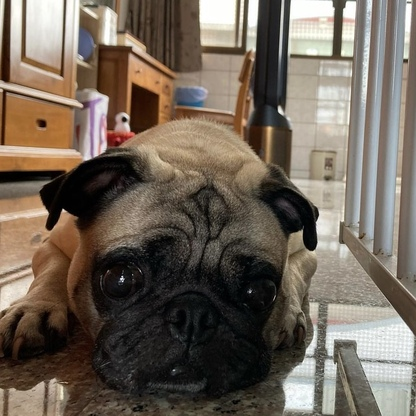Pug: (1, 110, 329, 402)
